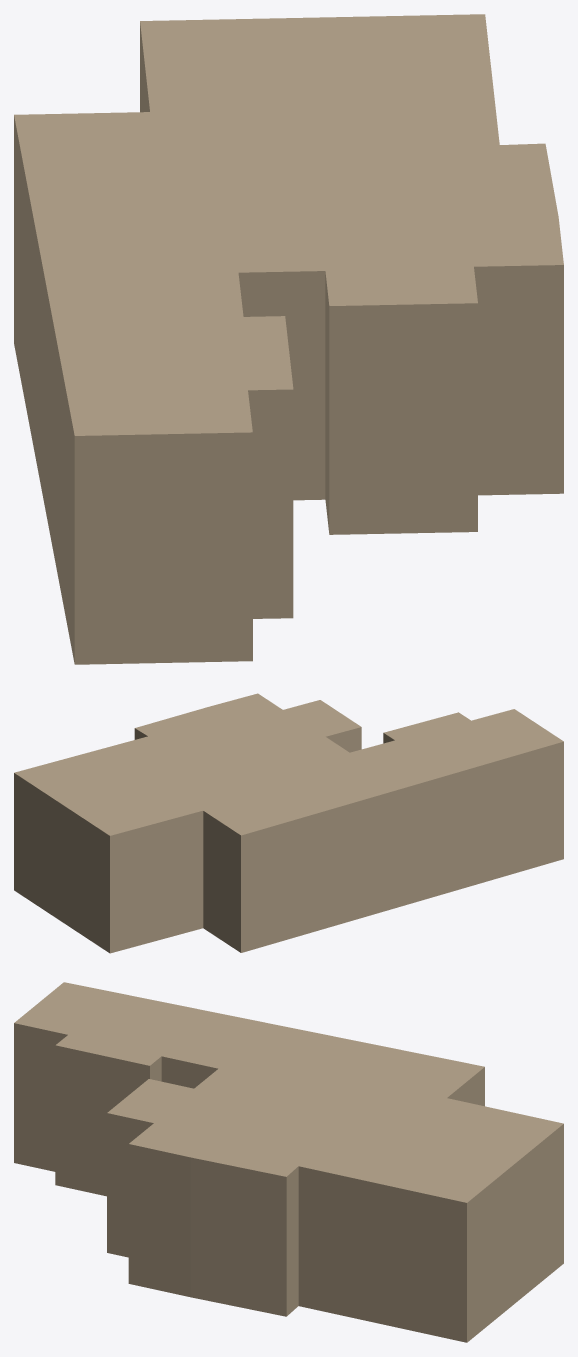
Rendered from bld_101374676.dae.
3 renders of one model, top to bottom at view 1: azimuth 30°, elevation 25°; view 2: azimuth 150°, elevation 25°; view 3: azimuth 270°, elevation 25°, orthographic. The views are drawn at different scales.
Parts seen in each view (by area): view 1: bld_101374676; view 2: bld_101374676; view 3: bld_101374676.
Boxes of the visible parts, x1=… form: bld_101374676: x1=14, y1=14, x2=563, y2=664; bld_101374676: x1=14, y1=693, x2=563, y2=953; bld_101374676: x1=14, y1=982, x2=563, y2=1342.
Size of the model in its own units: 27.09 by 28.51 by 8.
